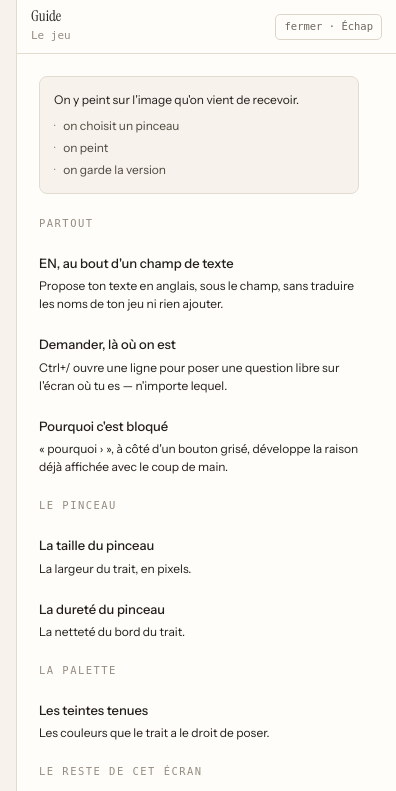
Test: le repli — on parcourt, on ne lit pas › un second clic la referme
Click the button "La dureté du pinceau".
click(102, 608)  # box [39, 600, 359, 619]
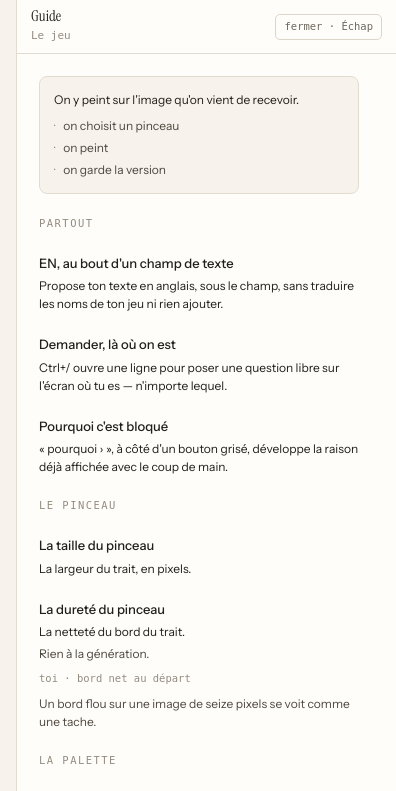
Click the button "La dureté du pinceau".
click(102, 608)  # box [39, 600, 359, 619]
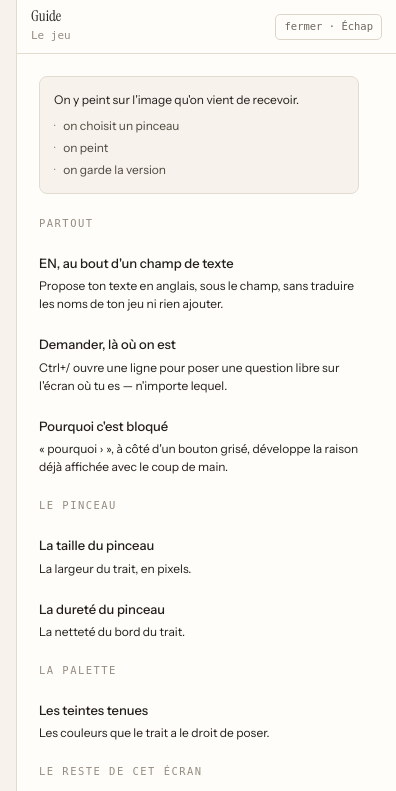
expect the text "toi · bord net au départ" is gone: met
